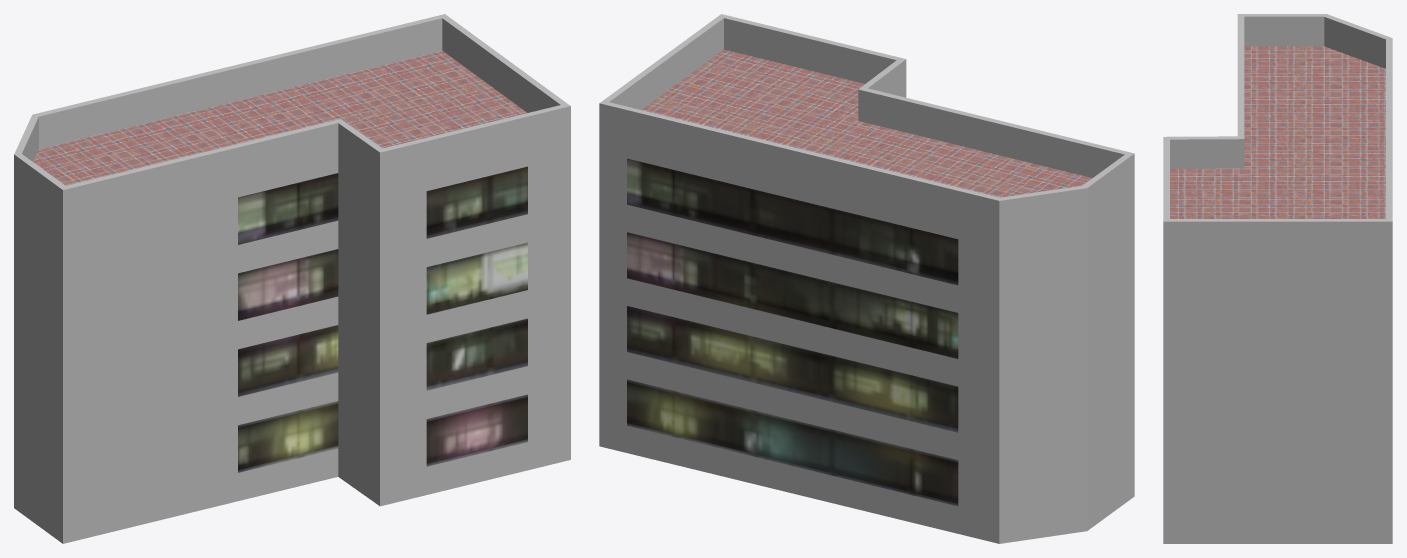
Rendered from hirise_parts03_4f.fbx.
The picture shows the model from 3 angles, left to right: view 1: azimuth 30°, elevation 25°; view 2: azimuth 150°, elevation 25°; view 3: azimuth 270°, elevation 25°; orthographic projection. The views are drawn at different scales.
Visible parts, largest first — view 1: hirise_parts03_4f; view 2: hirise_parts03_4f; view 3: hirise_parts03_4f.
Boxes of the visible parts, left/top/right/bottom form: hirise_parts03_4f: left=14, top=14, right=570, bottom=543; hirise_parts03_4f: left=599, top=14, right=1134, bottom=543; hirise_parts03_4f: left=1163, top=14, right=1392, bottom=543.
Bounding box in the file's own units: 19.92 × 14.42 × 9.3.
